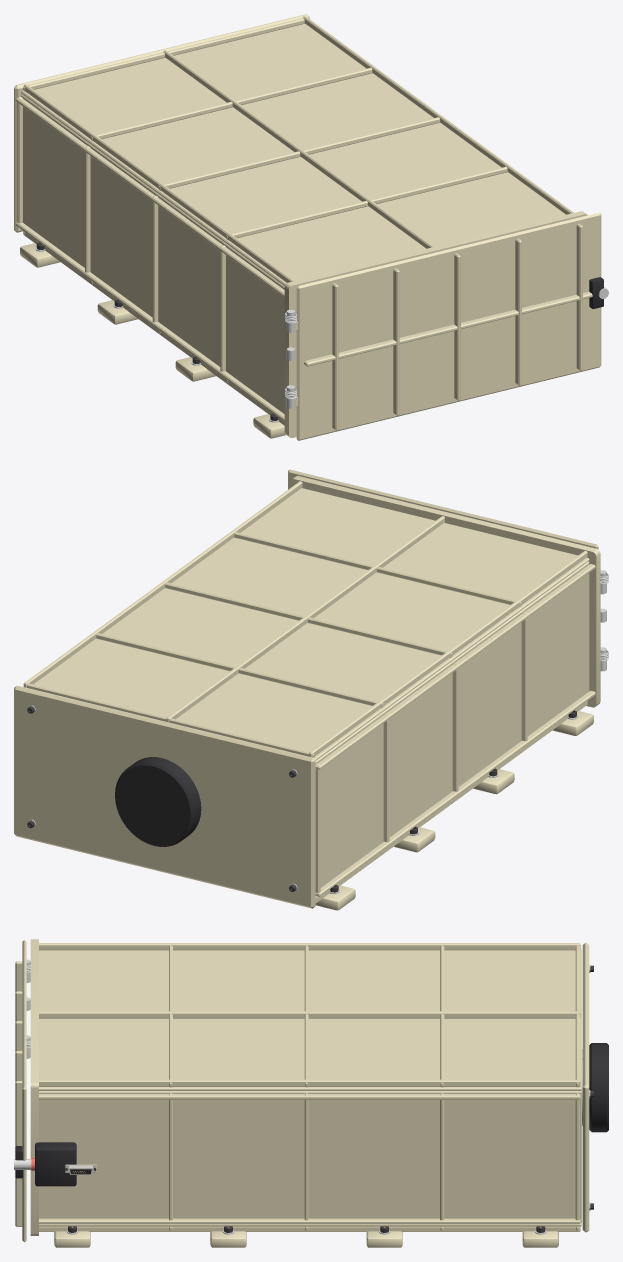
The model's file is deployer_6u_closed.glb.
The picture shows the model from 3 angles, top to bottom: view 1: azimuth 30°, elevation 25°; view 2: azimuth 150°, elevation 25°; view 3: azimuth 270°, elevation 25°; orthographic projection. The views are drawn at different scales.
Parts seen in each view (by area): view 1: wall (×3), door, deployer_6u_closed; view 2: wall (×3), deployer_6u_closed, door; view 3: wall (×3), deployer_6u_closed, door.
Part boxes in pixels (bbox=[...]): wall (×3): bbox=[15, 16, 573, 425]; door: bbox=[284, 212, 603, 440]; deployer_6u_closed: bbox=[14, 14, 608, 438]; wall (×3): bbox=[23, 481, 595, 903]; deployer_6u_closed: bbox=[14, 476, 606, 910]; door: bbox=[288, 469, 608, 671]; wall (×3): bbox=[39, 943, 581, 1231]; deployer_6u_closed: bbox=[14, 939, 608, 1247]; door: bbox=[15, 940, 30, 1242].
Bounding box in the file's own units: 0.2739 × 0.1285 × 0.427.
